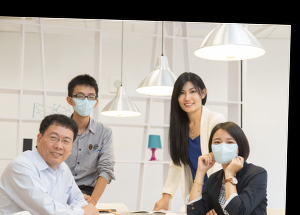with_mask: (209, 135, 239, 167), (68, 89, 97, 118)
without_mask: (39, 128, 74, 166), (178, 86, 201, 113)
